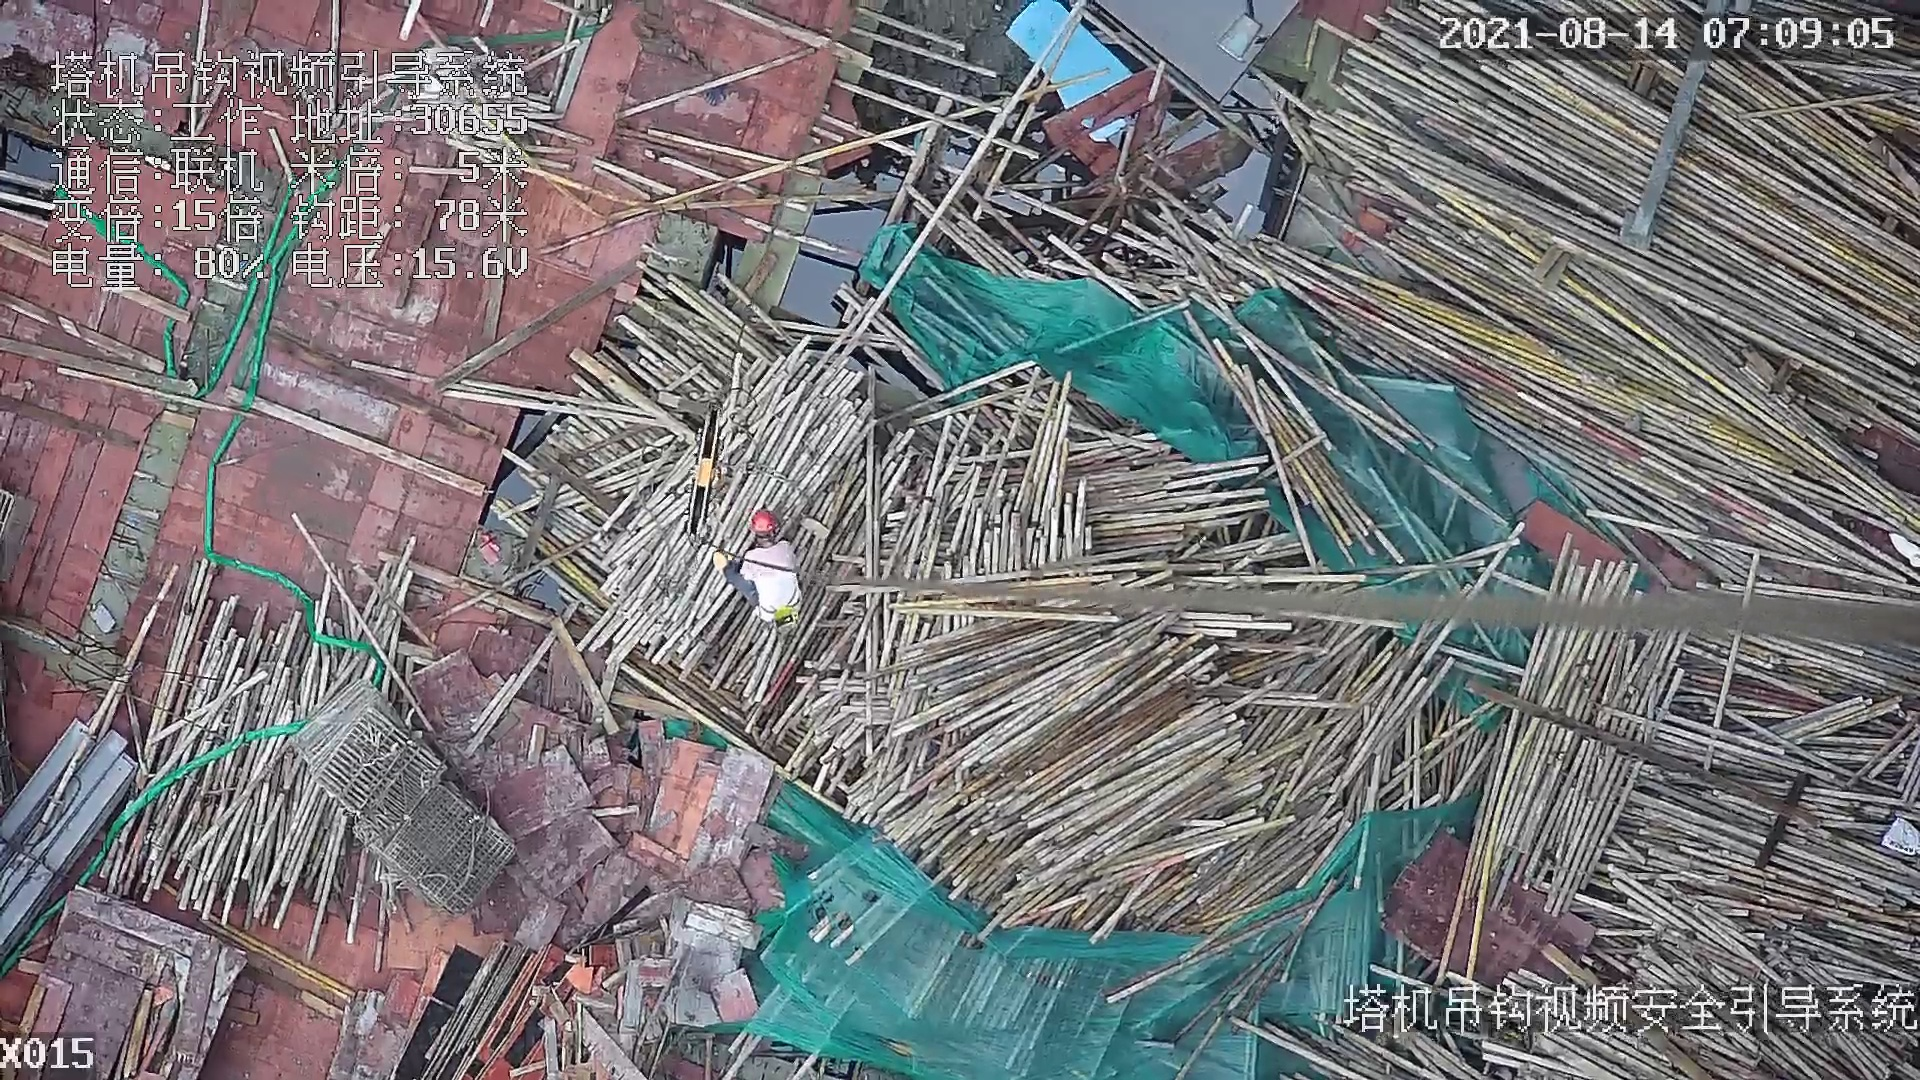helmet: (747, 509, 781, 540)
hook: (683, 400, 731, 542)
person: (709, 510, 801, 624)
